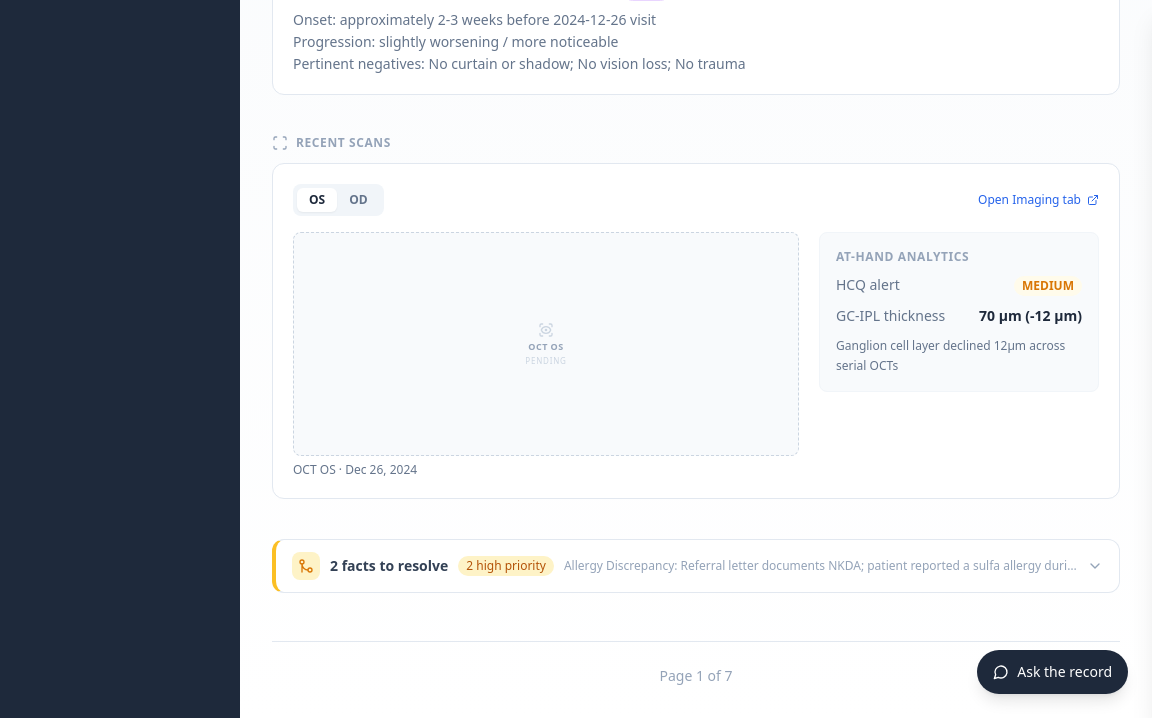
Test: App landing (deterministic overview) › quotes both sources of a rich-seed contradiction via citation chips
(page scrolled)
Check: the heading "2 facts to resolve" is shown, box [330,556,448,576]
Click the button that starts with "fact": click(698, 566) [276,540,1119,592]
(page scrolled)
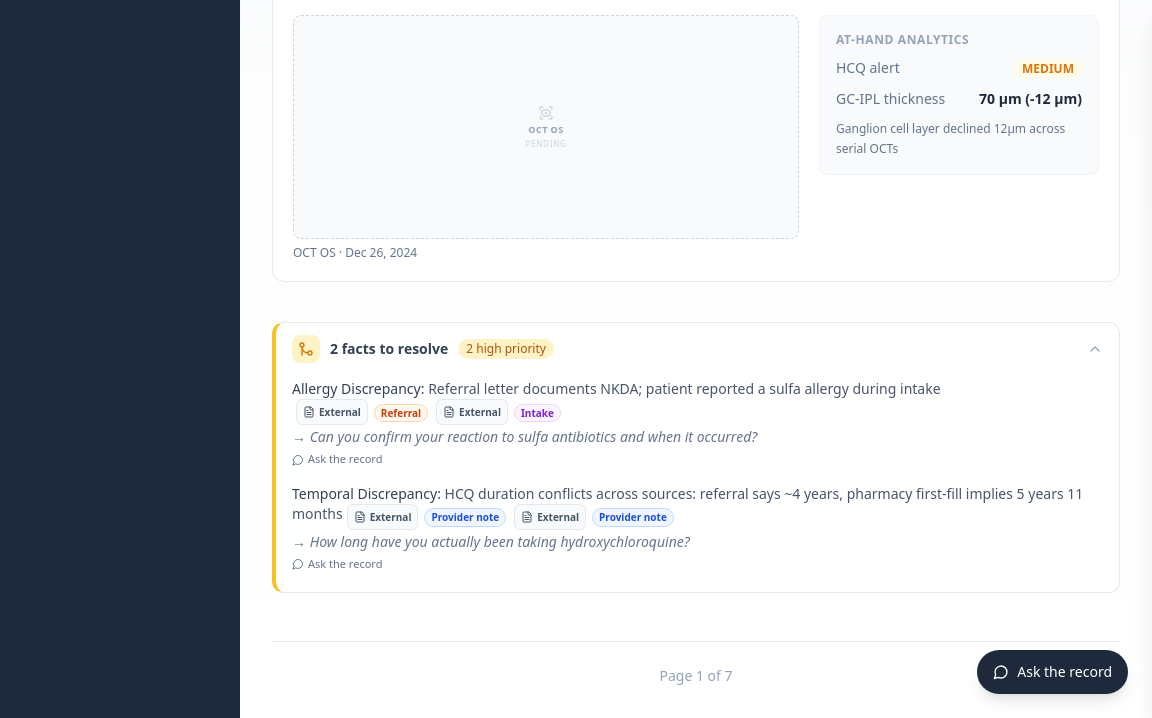
Check: the number of buttons "Provider note" is 2
Click the 1st button "Provider note": click(465, 518) [424,508,506,527]
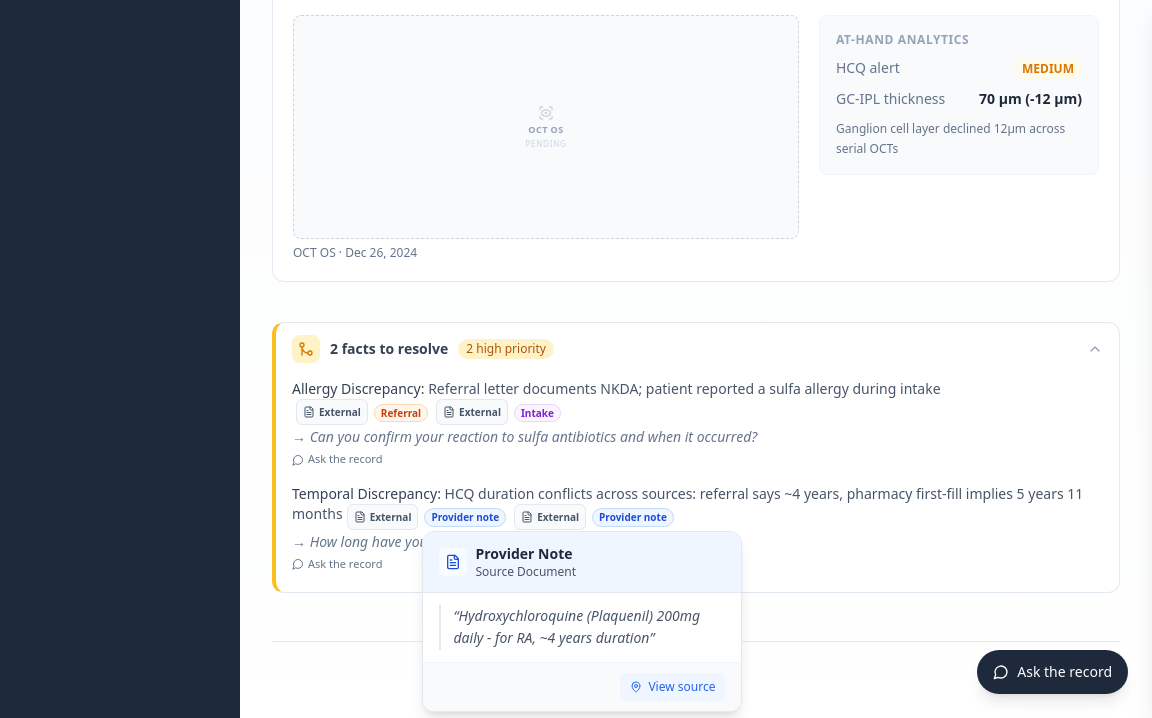
Check: the button with aria-label "Citation 1: Referral Letter" reads "Referral", box [374,404,428,422]
Check: the button with aria-label "Citation 2: Intake Transcript" reads "Intake", box [514,404,561,422]
Check: the text "Hydroxychloroquine (Plaquenil) 200mg daily - for RA, ~4 years duration" is shown, box [454,606,700,648]
